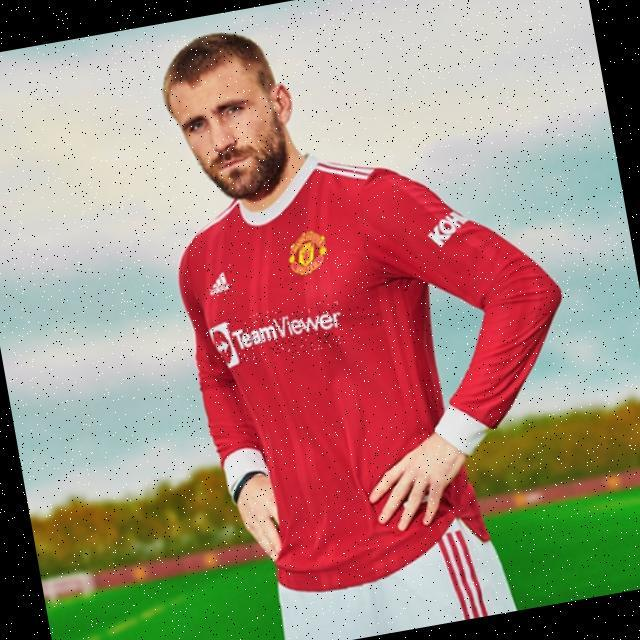Adidas: (202, 264, 237, 301)
TeamViewer: (211, 300, 345, 367)
